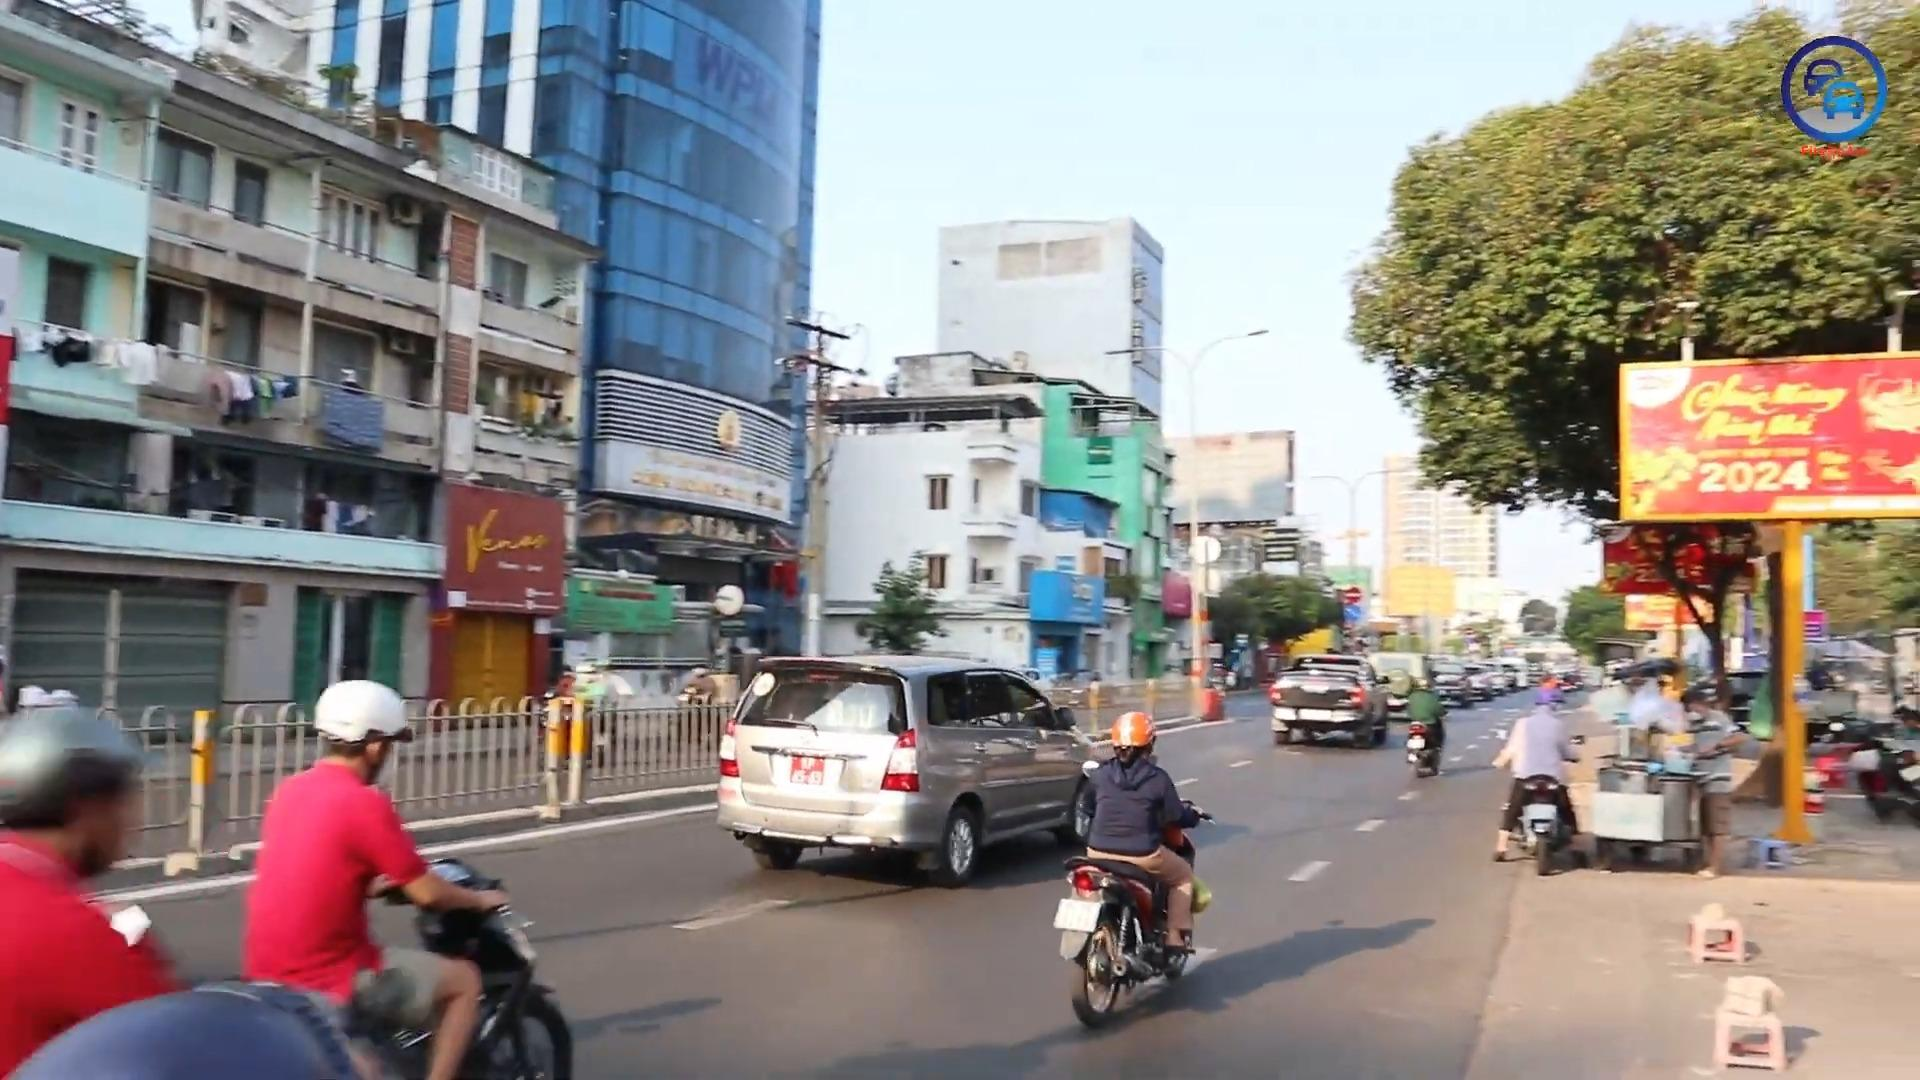bien_so: (1052, 896, 1103, 934), (788, 754, 827, 787)
